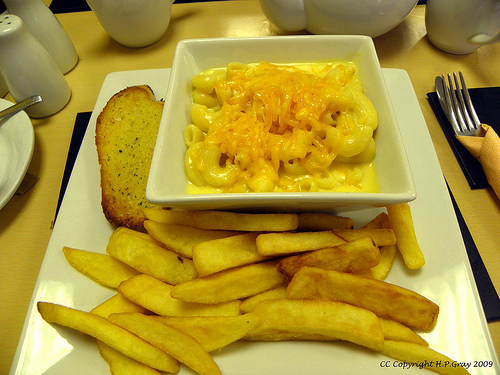macncheese: (177, 58, 384, 205)
